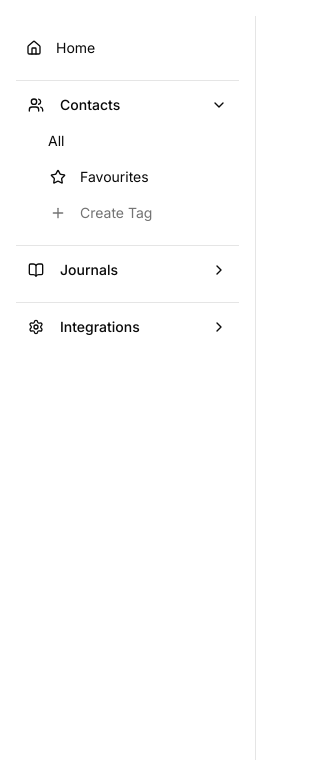
Test: Sidebar - Journal Tags › nests child tags under their parent and hides them until expanded
This screenshot has width=320, height=760.
Step 1. Click the button "Journals" → click(128, 270), box [16,254,239,286]
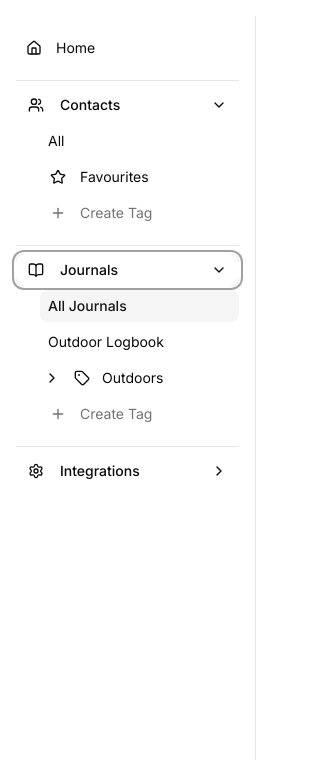
Check: the text "Outdoors" is shown, box [102,368,164,388]
